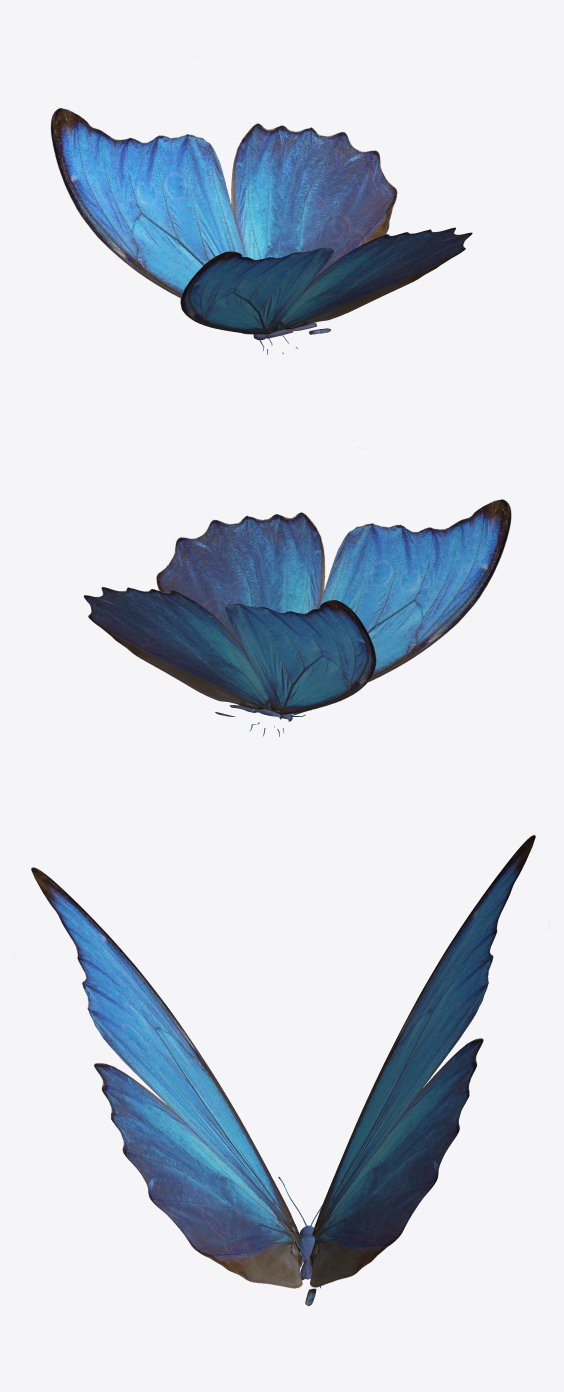
The model's file is butterfly.glb.
The picture shows the model from 3 angles, top to bottom: view 1: azimuth 30°, elevation 25°; view 2: azimuth 150°, elevation 25°; view 3: azimuth 270°, elevation 25°; orthographic projection. The views are drawn at different scales.
Visible parts, largest first — view 1: org_butterfly; view 2: org_butterfly; view 3: org_butterfly.
Boxes of the visible parts, <box> form: org_butterfly: <box>50,108,472,354</box>; org_butterfly: <box>83,499,511,736</box>; org_butterfly: <box>31,835,535,1305</box>.
Size of the model in its own units: 0.192 by 0.12 by 0.1644.
1 material, 1 textured.
